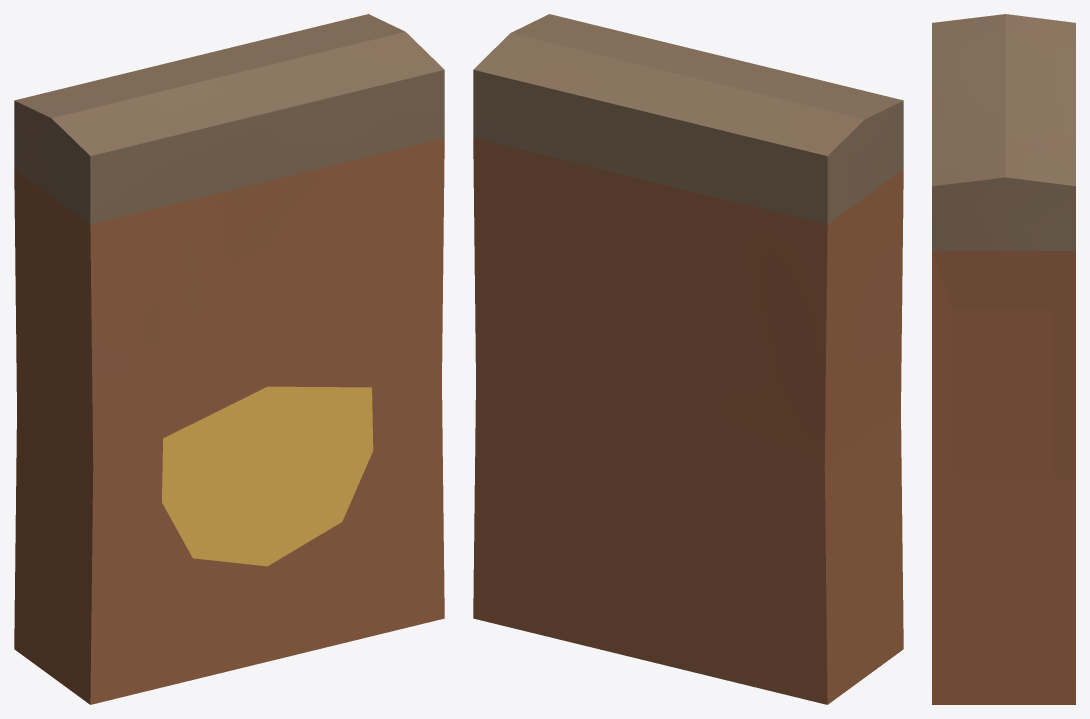
The picture shows the model from 3 angles, left to right: view 1: azimuth 30°, elevation 25°; view 2: azimuth 150°, elevation 25°; view 3: azimuth 270°, elevation 25°; orthographic projection. The views are drawn at different scales.
Parts seen in each view (by area): view 1: cereal-box; view 2: cereal-box; view 3: cereal-box.
Part boxes in pixels (x1,y1,x2,y2): cereal-box: [14, 14, 444, 704]; cereal-box: [473, 14, 903, 704]; cereal-box: [932, 14, 1075, 704].
Bounding box in the file's own units: 25 × 37.64 × 9.31.
Materials: 1 (1 with a texture image).
